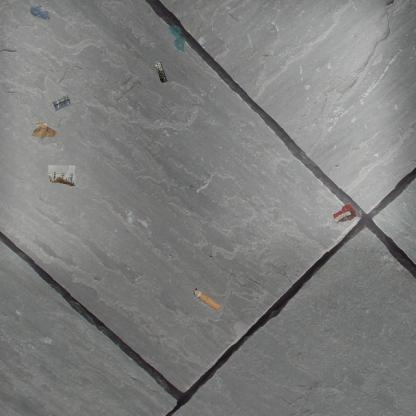dirty: (192, 288, 221, 312), (46, 164, 76, 186), (331, 202, 358, 226), (30, 119, 58, 140), (51, 92, 73, 114), (153, 58, 170, 86)
liquid: (166, 23, 188, 52), (30, 3, 50, 20)
